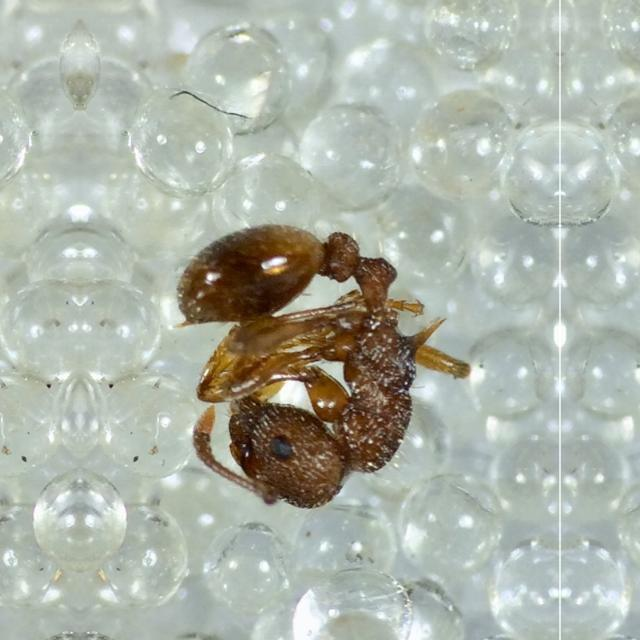Myrmica: (170, 185, 462, 529)
